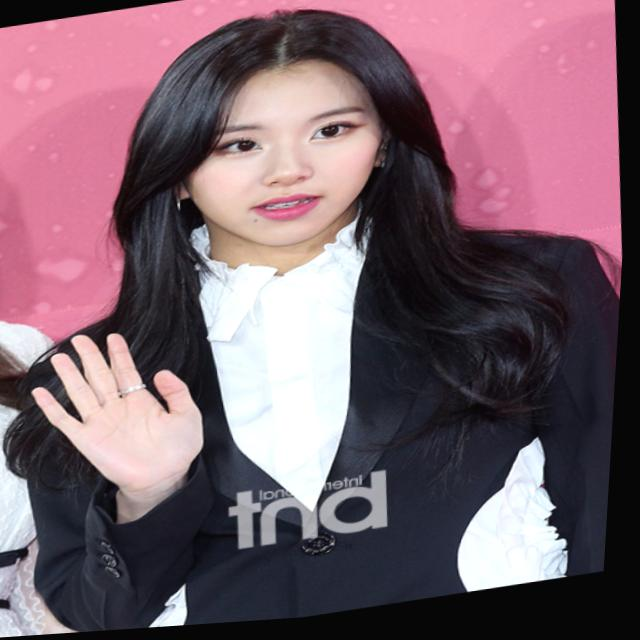face: (139, 35, 412, 275)
